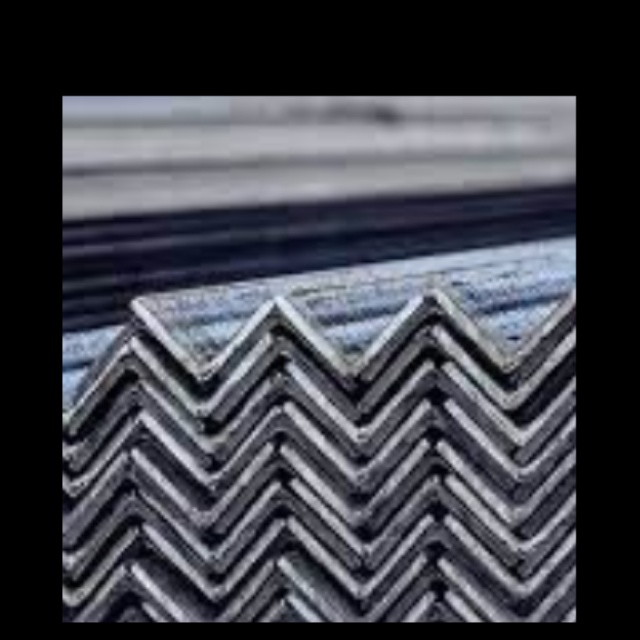Angle: (106, 455, 262, 520), (365, 418, 507, 489), (440, 330, 576, 404), (368, 380, 509, 451), (441, 289, 576, 362), (369, 533, 507, 603), (443, 445, 576, 516), (295, 366, 427, 436), (367, 309, 496, 380), (449, 519, 576, 591), (137, 304, 269, 373), (373, 496, 510, 562), (282, 302, 415, 368), (221, 348, 352, 415), (293, 407, 422, 475), (290, 450, 420, 517), (136, 342, 266, 409), (450, 367, 576, 436), (452, 480, 576, 550), (446, 556, 576, 622), (77, 397, 203, 464), (151, 528, 277, 595), (452, 406, 576, 473), (283, 563, 419, 622), (151, 414, 272, 480), (224, 501, 350, 563), (149, 492, 270, 556), (72, 472, 186, 539), (223, 390, 348, 451), (224, 320, 343, 381), (137, 568, 270, 622), (225, 426, 345, 483), (78, 366, 190, 423), (377, 574, 496, 622), (62, 425, 128, 491), (62, 349, 126, 416), (521, 387, 576, 458), (62, 460, 119, 527), (522, 309, 576, 376), (526, 500, 576, 571), (529, 462, 576, 537), (62, 501, 117, 564), (524, 432, 576, 494), (294, 599, 429, 622), (527, 348, 576, 411), (450, 598, 576, 622), (531, 538, 576, 605), (62, 573, 121, 622)
